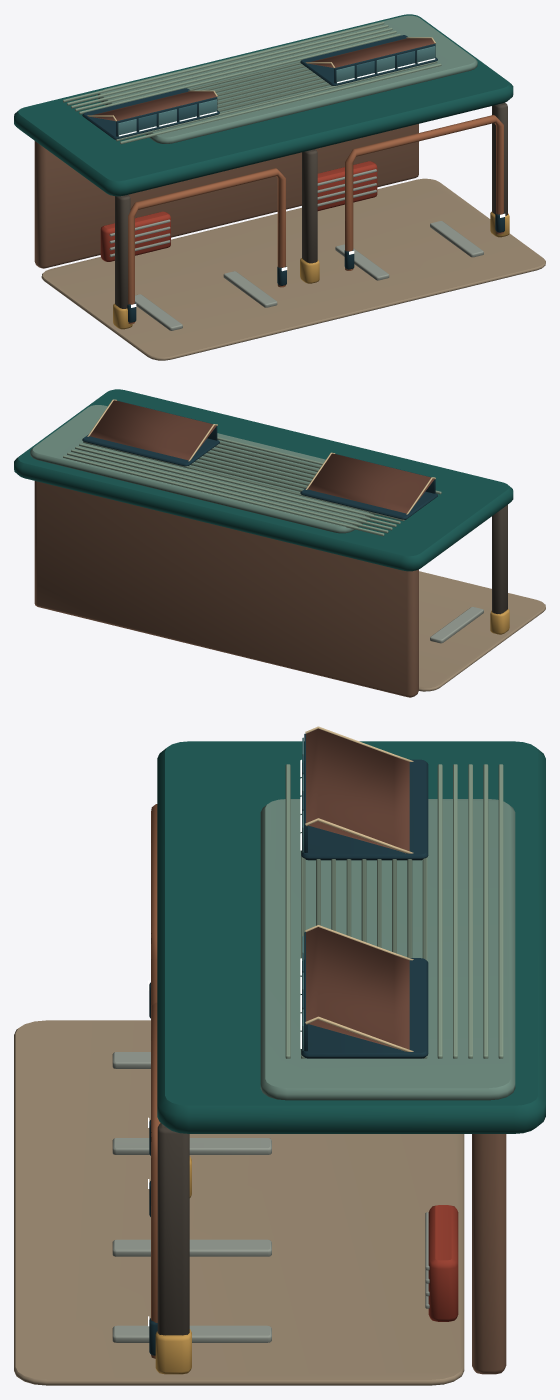
Rendered from truck.glb.
3 views of the same model, one above another, from view 1: azimuth 30°, elevation 25°; view 2: azimuth 150°, elevation 25°; view 3: azimuth 270°, elevation 25° (orthographic). The views are drawn at different scales.
Visible parts, largest first — view 1: Truck; view 2: Truck; view 3: Truck.
Part boxes in pixels (bbox=[...]): Truck: bbox=[14, 14, 545, 360]; Truck: bbox=[14, 389, 545, 697]; Truck: bbox=[14, 726, 545, 1385].
Size of the model in its own units: 13.28 by 5.58 by 8.05.
